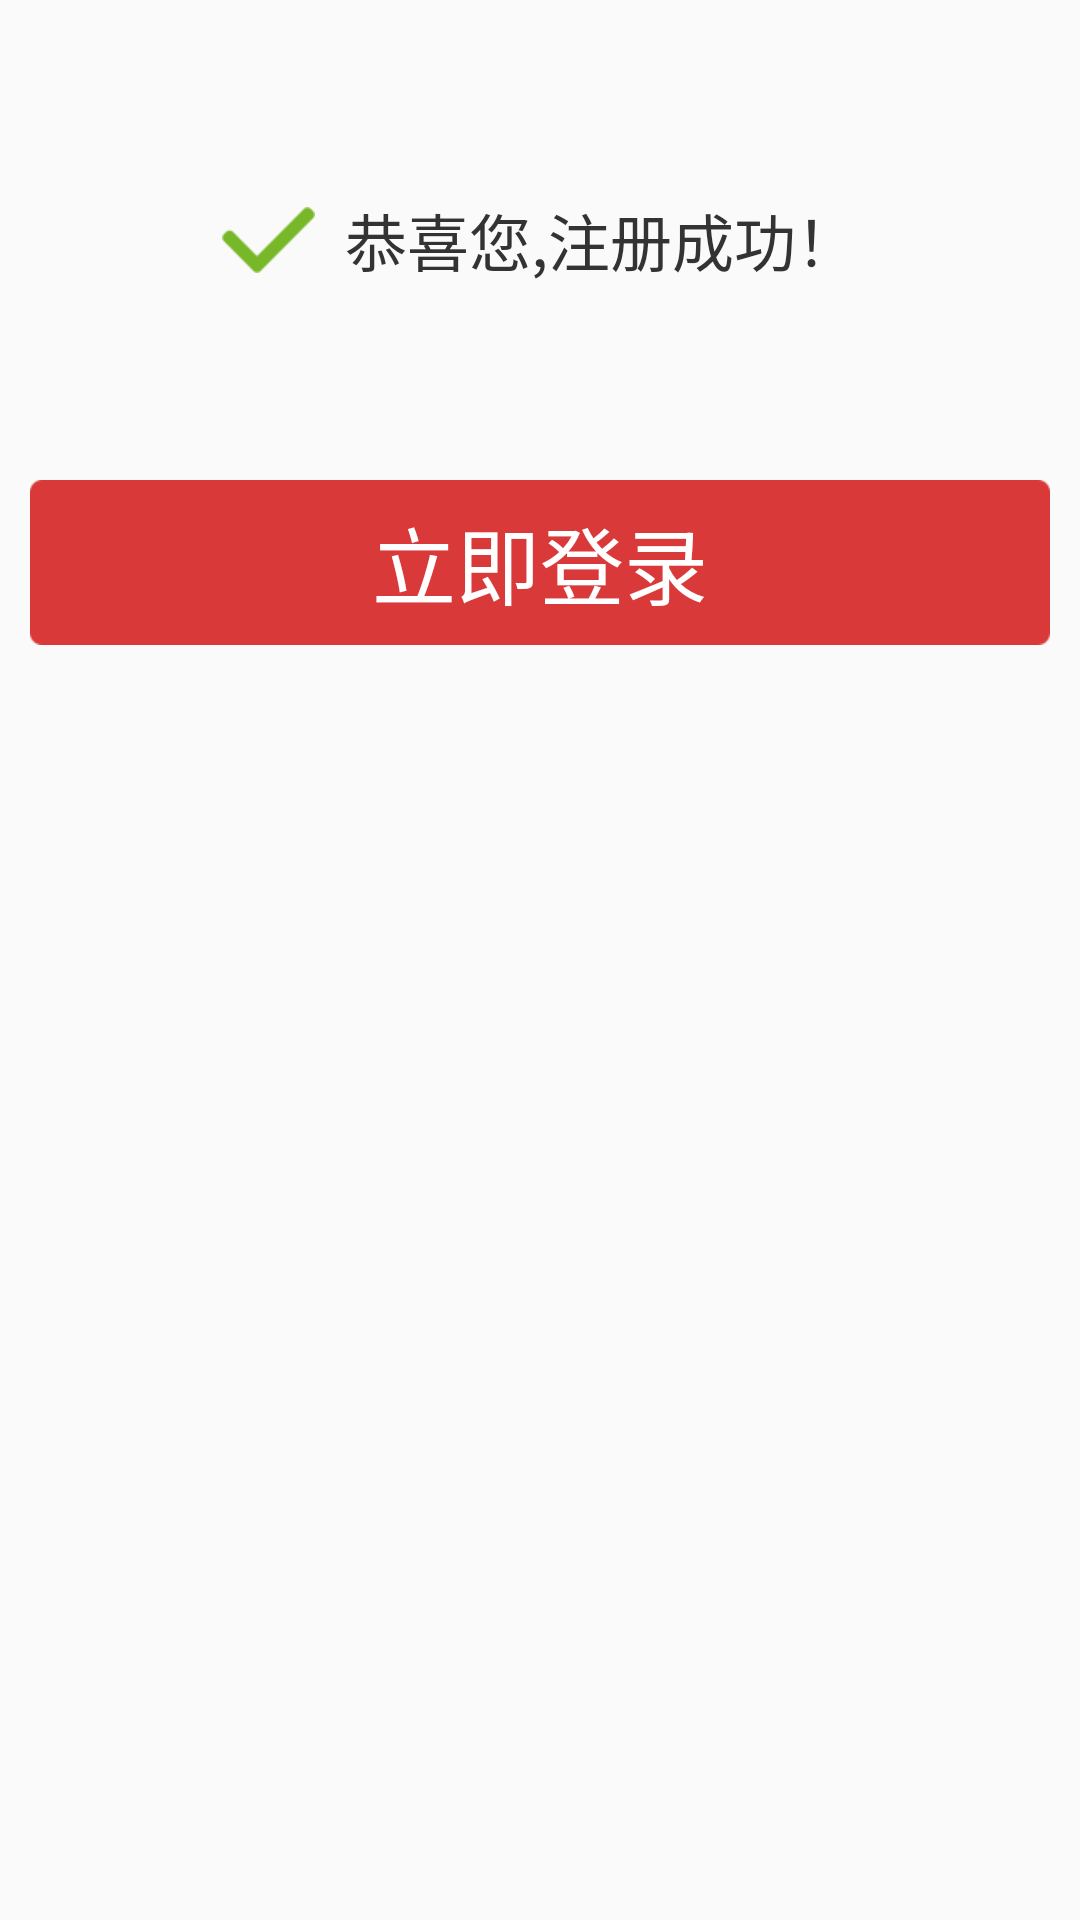

Named icons in this screenshot (1080 × 1920) and their centers, (x=x, y=y):
login success: (x=268, y=240)
